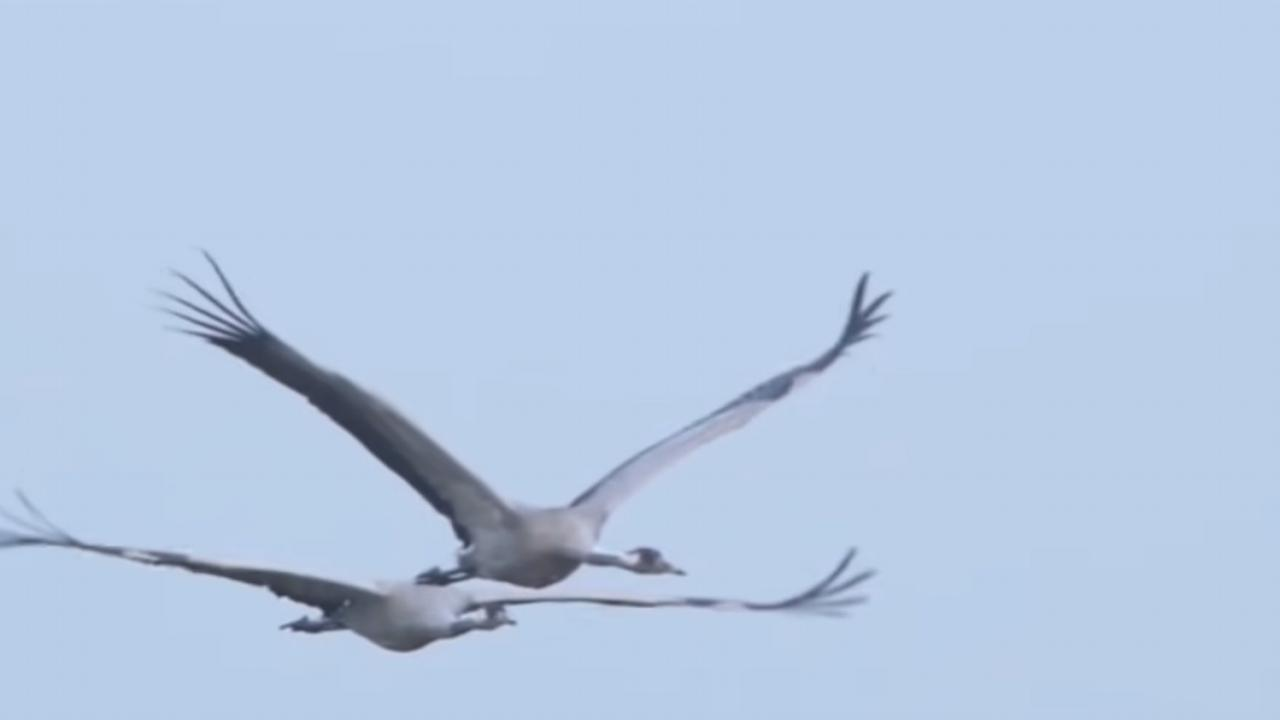Bird: (139, 241, 904, 594), (0, 474, 900, 657)
